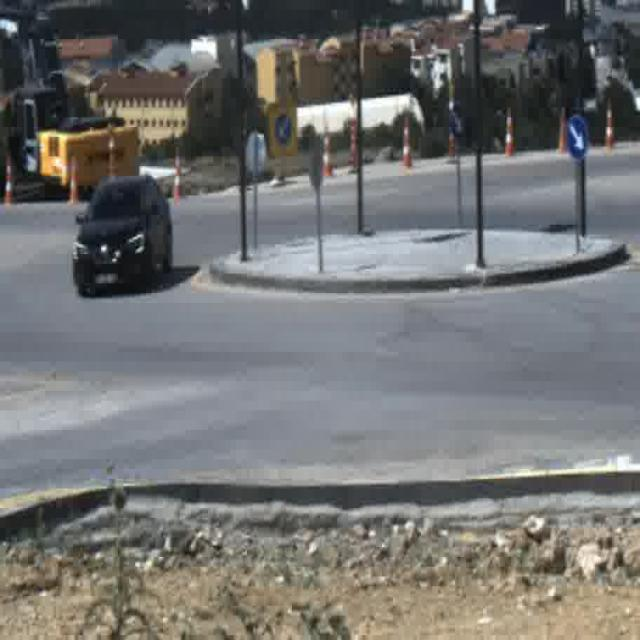Car: (70, 172, 174, 298)
